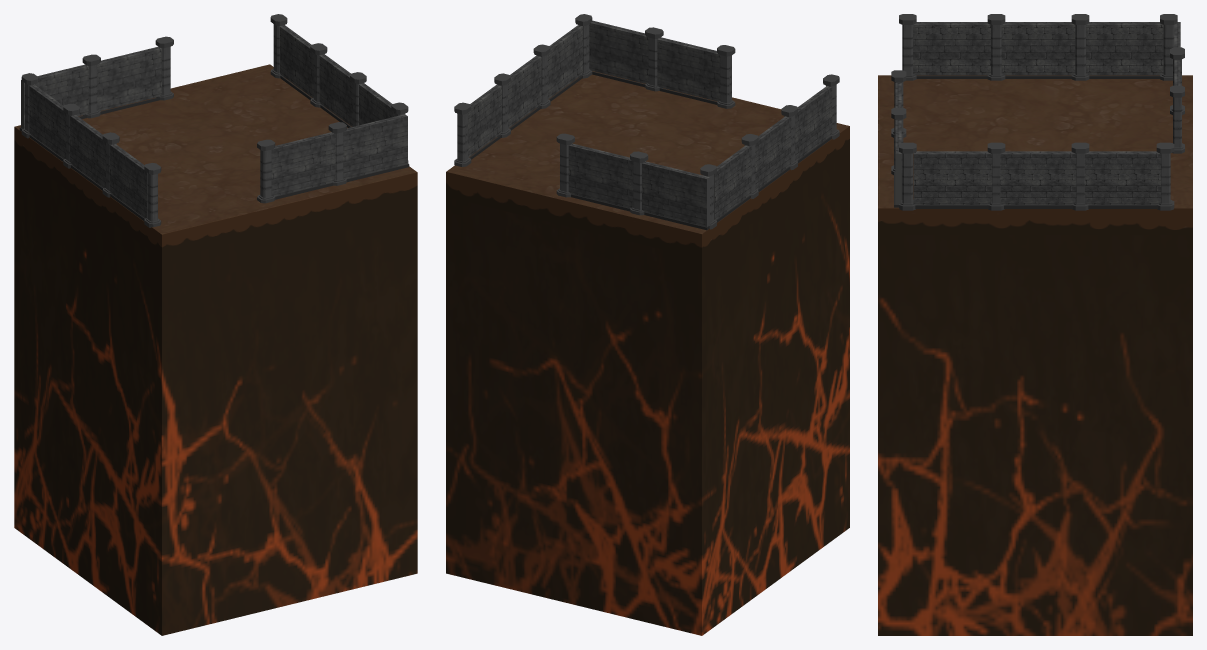
The model's file is Plataforma 1 ZigZag 4.fbx.
3 renders of one model, left to right at view 1: azimuth 30°, elevation 25°; view 2: azimuth 150°, elevation 25°; view 3: azimuth 270°, elevation 25°, orthographic. The views are drawn at different scales.
Visible parts, largest first — view 1: Plataforma 1.005, Muro.017, Muro.018, Muro.015, Muro.014, Muro.012, Muro.013, Muro.011, Muro.016, Muro.010, Muro.009, Pilar.017 (+6 smaller); view 2: Plataforma 1.005, Muro.016, Muro.018, Muro.015, Muro.017, Muro.014, Muro.012, Muro.013, Muro.009, Muro.011, Muro.010, Pilar.017 (+6 smaller); view 3: Plataforma 1.005, Muro.009, Muro.011, Muro.014, Muro.010, Muro.012, Muro.013, Pilar.014, Pilar.010, Pilar.011, Pilar.012, Pilar.015 (+5 smaller).
Part boxes in pixels (bbox=[...]): Plataforma 1.005: bbox=[14, 64, 417, 635]; Muro.017: bbox=[343, 114, 409, 182]; Muro.018: bbox=[97, 46, 161, 114]; Muro.015: bbox=[271, 132, 335, 199]; Muro.014: bbox=[109, 144, 147, 220]; Muro.012: bbox=[29, 84, 66, 161]; Muro.013: bbox=[70, 115, 105, 190]; Muro.011: bbox=[279, 25, 313, 99]; Muro.016: bbox=[19, 64, 88, 131]; Muro.010: bbox=[319, 54, 352, 127]; Muro.009: bbox=[359, 83, 394, 125]; Pilar.017: bbox=[257, 139, 275, 203]; Plataforma 1.005: bbox=[446, 71, 849, 635]; Muro.016: bbox=[642, 161, 709, 230]; Muro.018: bbox=[568, 143, 633, 211]; Muro.015: bbox=[657, 37, 720, 104]; Muro.017: bbox=[589, 20, 648, 87]; Muro.014: bbox=[795, 86, 832, 163]; Muro.012: bbox=[714, 145, 751, 222]; Muro.013: bbox=[755, 116, 791, 191]; Muro.009: bbox=[547, 25, 582, 101]; Muro.011: bbox=[468, 84, 501, 159]; Muro.010: bbox=[508, 55, 541, 130]; Pilar.017: bbox=[717, 45, 735, 108]; Plataforma 1.005: bbox=[878, 75, 1192, 635]; Muro.009: bbox=[913, 151, 992, 208]; Muro.011: bbox=[1084, 151, 1161, 208]; Muro.014: bbox=[913, 22, 990, 78]; Muro.010: bbox=[1000, 151, 1076, 208]; Muro.012: bbox=[1086, 22, 1163, 78]; Muro.013: bbox=[1001, 22, 1075, 78]; Pilar.014: bbox=[899, 142, 916, 210]; Pilar.010: bbox=[1071, 14, 1089, 80]; Pilar.011: bbox=[987, 14, 1005, 80]; Pilar.012: bbox=[1156, 142, 1174, 210]; Pilar.015: bbox=[899, 14, 916, 80].
Size of the model in its own units: 1014 by 1712 by 1000.
